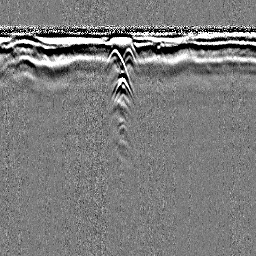cavity: (122, 43, 136, 63)
